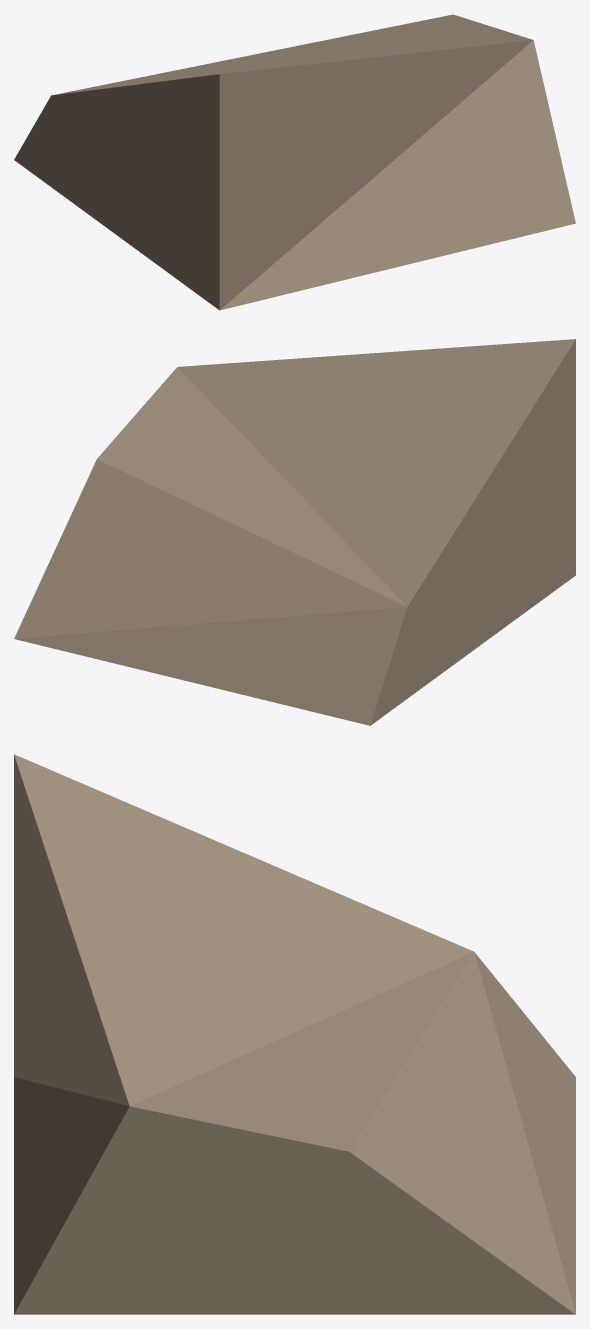
Rendered from Pedras05.fbx.
3 renders of one model, top to bottom at view 1: azimuth 30°, elevation 25°; view 2: azimuth 150°, elevation 25°; view 3: azimuth 270°, elevation 25°, orthographic. The views are drawn at different scales.
Visible parts, largest first — view 1: Cube.001; view 2: Cube.001; view 3: Cube.001.
Part boxes in pixels (x1=…): Cube.001: x1=14, y1=14, x2=575, y2=310; Cube.001: x1=14, y1=339, x2=575, y2=725; Cube.001: x1=14, y1=754, x2=575, y2=1314.
Bounding box in the file's own units: 84.8 × 53.75 × 84.77.
